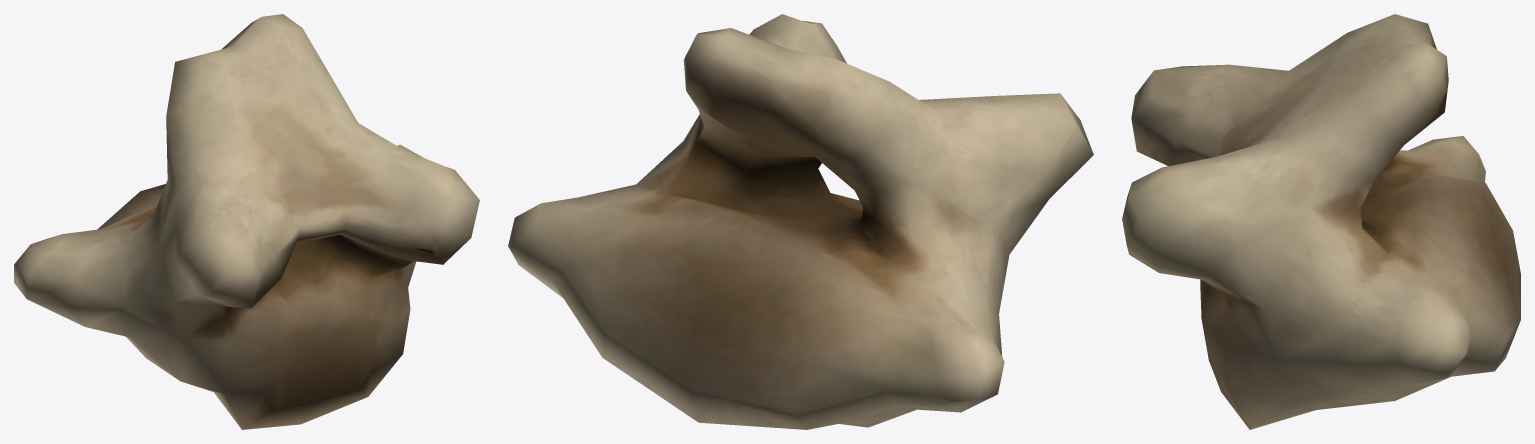
File: Caudal_Vertebrae2.glb
The picture shows the model from 3 angles, left to right: view 1: azimuth 30°, elevation 25°; view 2: azimuth 150°, elevation 25°; view 3: azimuth 270°, elevation 25°; orthographic projection. The views are drawn at different scales.
Parts seen in each view (by area): view 1: Caudal_Vertebrae_21:Group13972; view 2: Caudal_Vertebrae_21:Group13972; view 3: Caudal_Vertebrae_21:Group13972.
Part boxes in pixels (<box>): Caudal_Vertebrae_21:Group13972: <box>14,14,479,429</box>; Caudal_Vertebrae_21:Group13972: <box>508,14,1093,429</box>; Caudal_Vertebrae_21:Group13972: <box>1122,14,1520,429</box>.
Size of the model in its own units: 17.48 by 14.46 by 13.37.
1 material, 1 textured.
